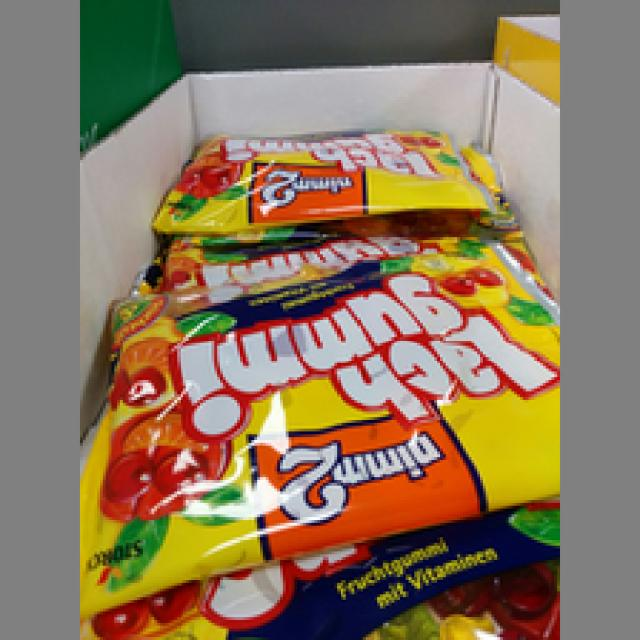groceries: (74, 234, 557, 606), (148, 126, 492, 231)
